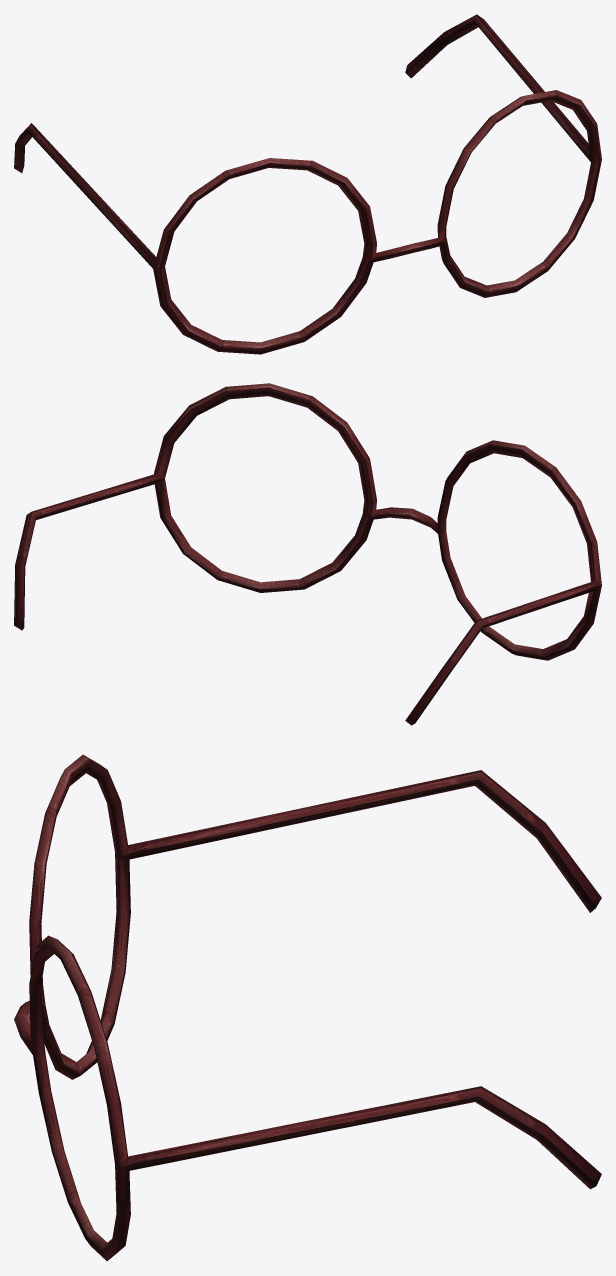
File: female_glasses_01__high.glb
3 views of the same model, one above another, from view 1: azimuth 30°, elevation 25°; view 2: azimuth 150°, elevation 25°; view 3: azimuth 270°, elevation 25° (orthographic). The views are drawn at different scales.
Parts seen in each view (by area): view 1: female_glasses_01__high; view 2: female_glasses_01__high; view 3: female_glasses_01__high.
Part boxes in pixels (<box>): female_glasses_01__high: <box>14,14,601,354</box>; female_glasses_01__high: <box>14,383,601,725</box>; female_glasses_01__high: <box>14,754,601,1260</box>.
Bounding box in the file's own units: 1.98 × 0.8417 × 1.52.
1 material, 1 textured.
